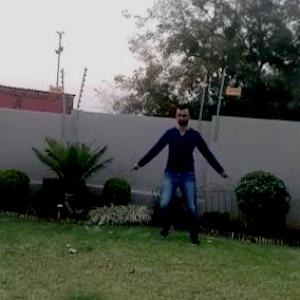land: (131, 109, 233, 244)
